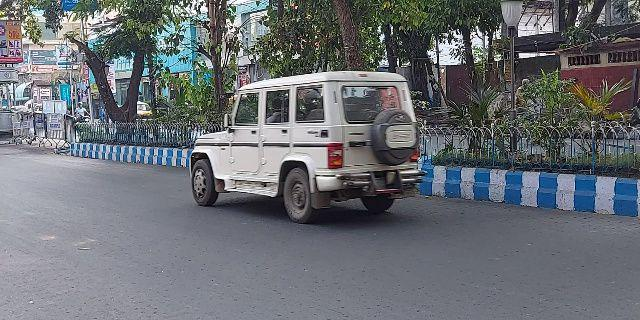Car: (186, 67, 423, 227)
